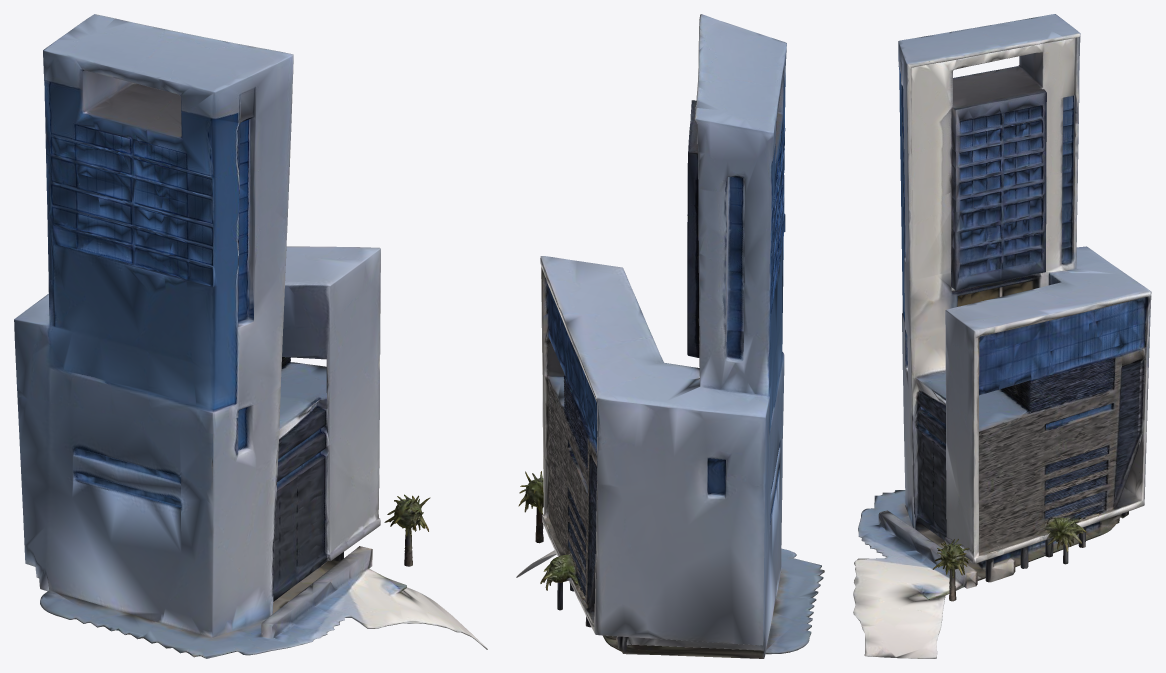
Rendered from Eko_Tower_2_opt.glb.
3 views of the same model, side by side, from view 1: azimuth 30°, elevation 25°; view 2: azimuth 150°, elevation 25°; view 3: azimuth 270°, elevation 25° (orthographic). The views are drawn at different scales.
Visible parts, largest first — view 1: tripo_node_d617c695-1cf2-4be5-8a69-57f79677fcf9; view 2: tripo_node_d617c695-1cf2-4be5-8a69-57f79677fcf9; view 3: tripo_node_d617c695-1cf2-4be5-8a69-57f79677fcf9.
Boxes of the visible parts, box(x1,y1,x2,y2) form: tripo_node_d617c695-1cf2-4be5-8a69-57f79677fcf9: box(14, 14, 487, 658); tripo_node_d617c695-1cf2-4be5-8a69-57f79677fcf9: box(516, 14, 824, 658); tripo_node_d617c695-1cf2-4be5-8a69-57f79677fcf9: box(853, 14, 1151, 658).
Size of the model in its own units: 0.5858 by 0.9785 by 0.5058.
Materials: 1 (1 with a texture image).
